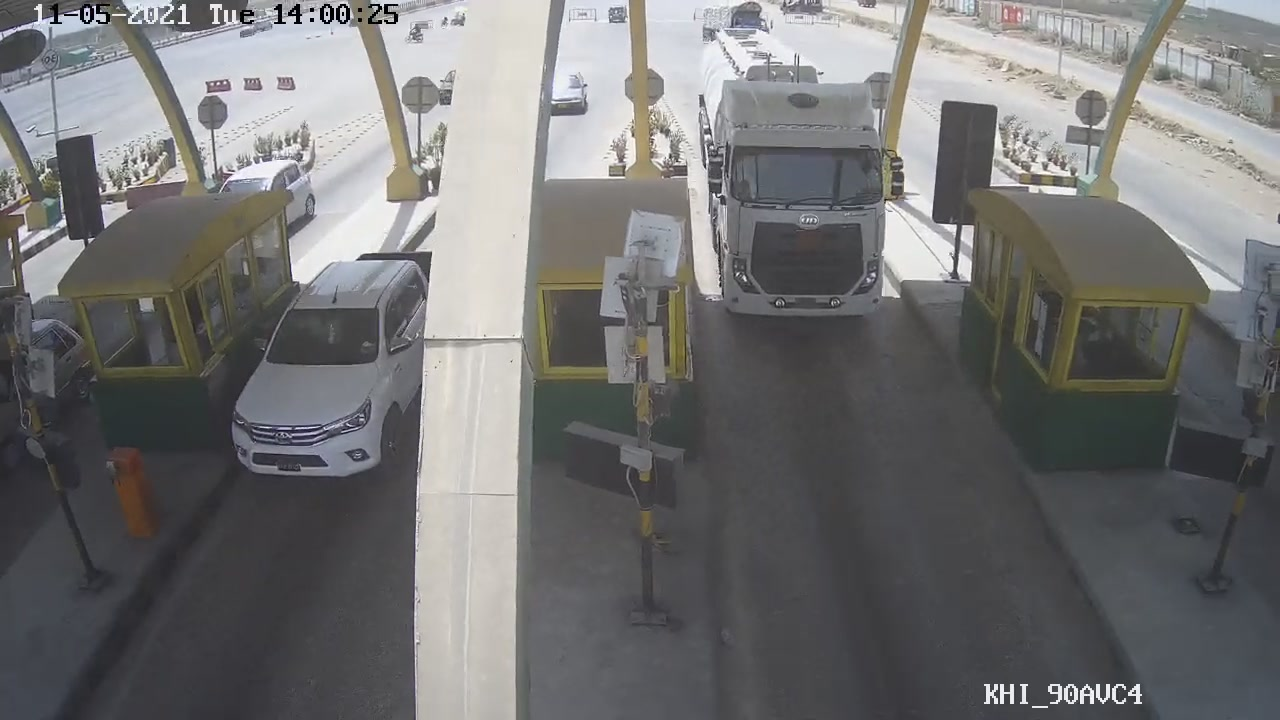F6: (695, 40, 911, 326)
